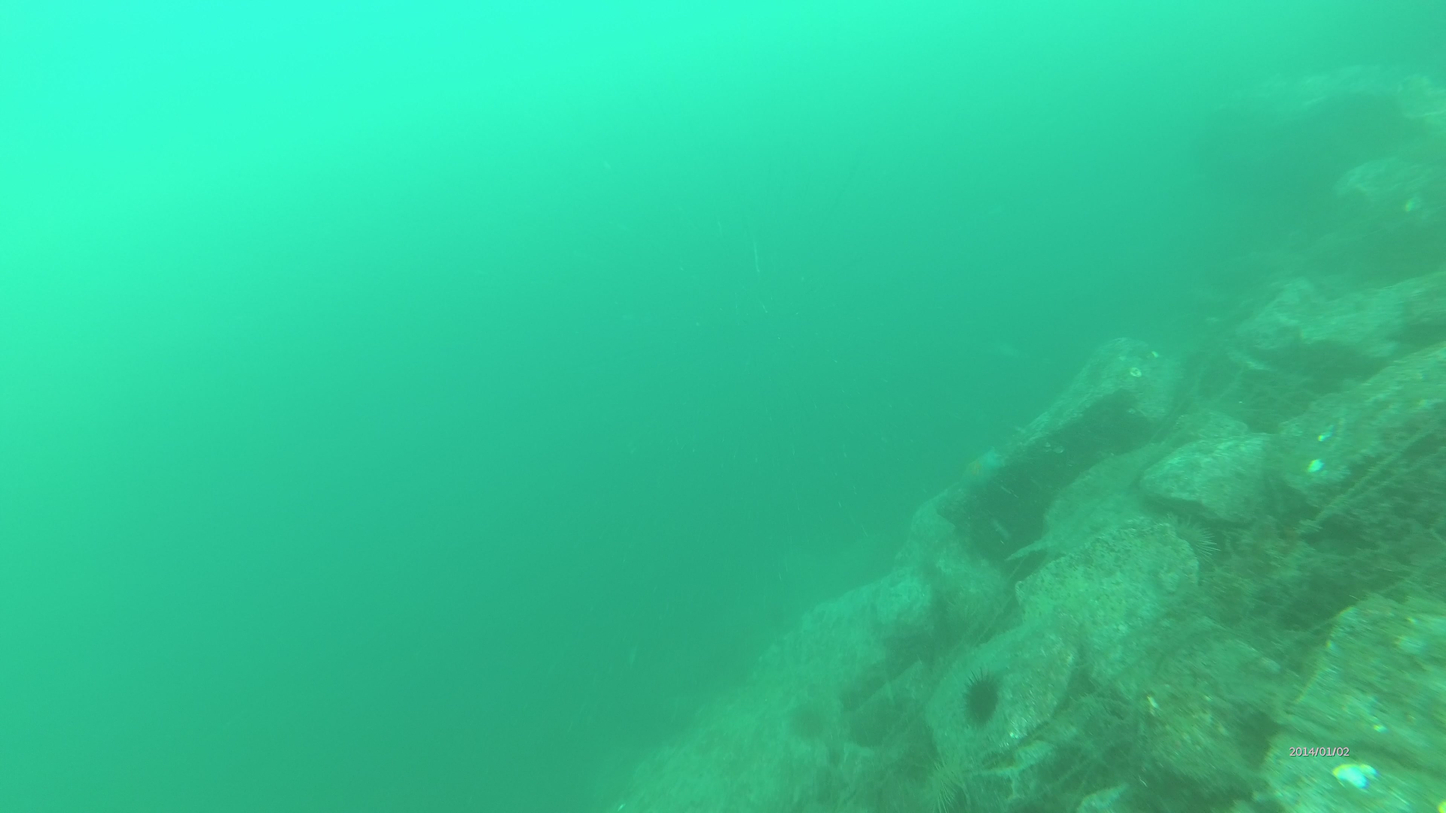starfish: (1170, 518, 1220, 571), (961, 672, 1004, 727)
